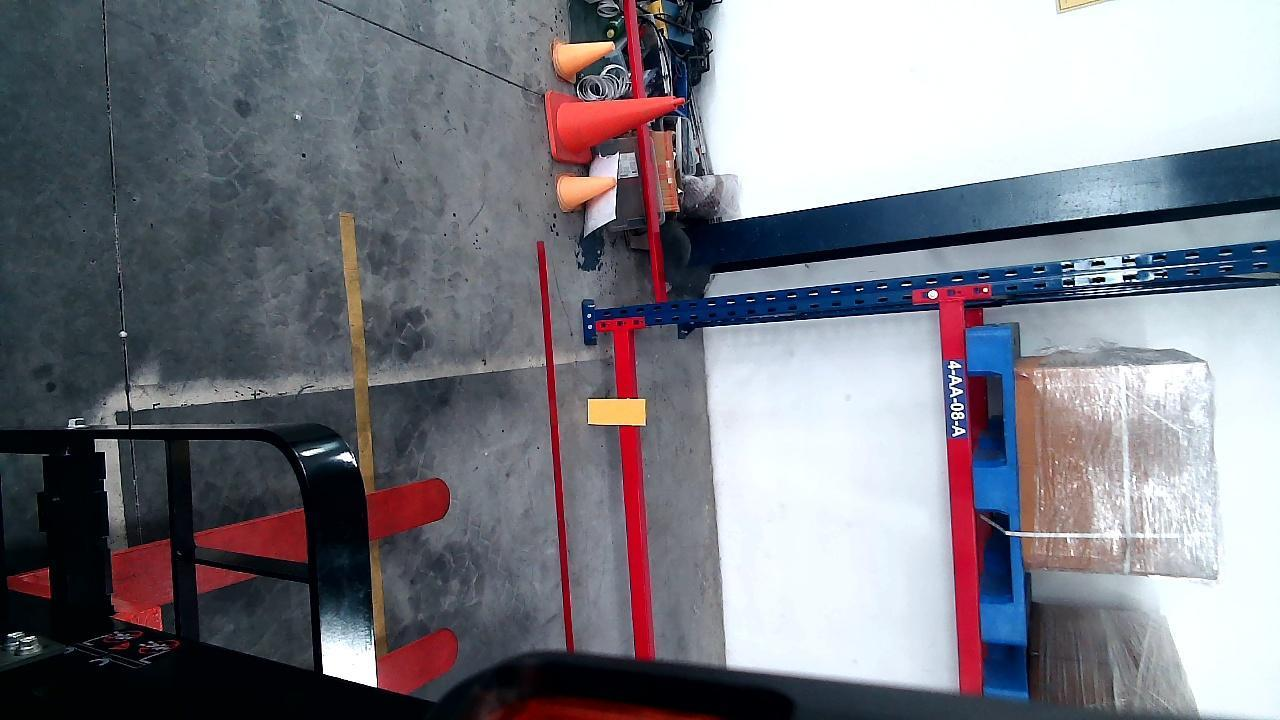h_rack: (942, 295, 979, 694), (615, 329, 654, 658)
orange_strip: (588, 397, 645, 426)
red_line: (537, 242, 577, 650)
small_pallet: (969, 326, 1024, 641)
yellow_line: (344, 206, 374, 489)
